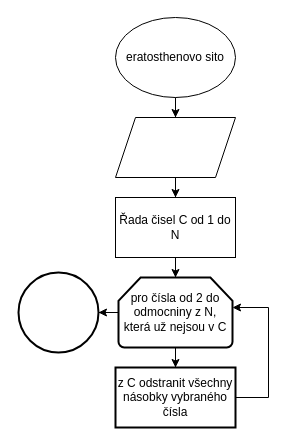
The diagram is 294 pixels wide and 446 high, and some of its shapes have lost their labels. The shapes that lost their labels are listed below. From the top down, each one's box as (x1, y1, x2, y2) in pixels, then its label:
(114, 116, 236, 178): Čislo N
(17, 271, 99, 353): všechna čísla v C jsou prvočísla
